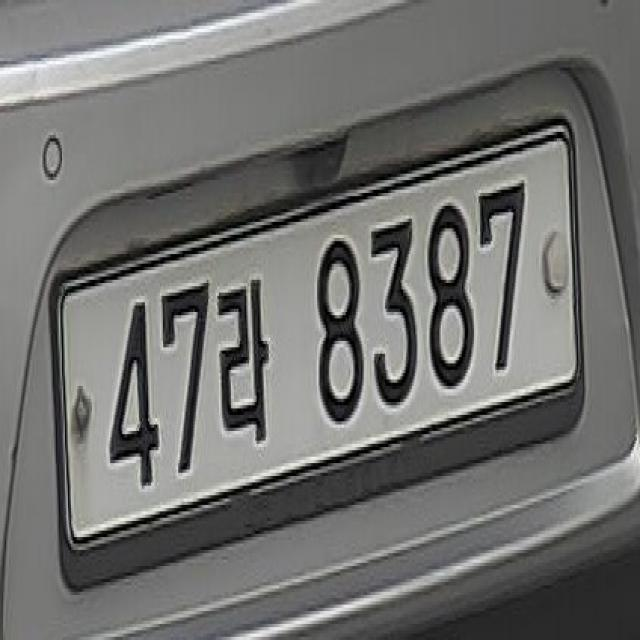3: (367, 214, 422, 421)
4: (98, 302, 162, 500)
7: (474, 182, 530, 382), (158, 288, 214, 484)
8: (426, 202, 480, 402), (314, 232, 366, 434)
la: (215, 278, 278, 456)
license_plate: (33, 100, 603, 626)
